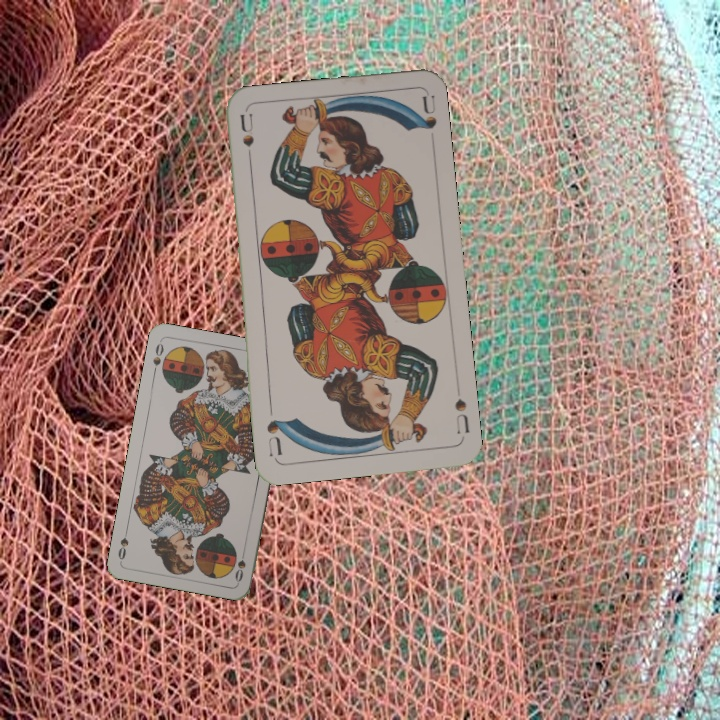SO: (231, 544, 248, 584), (149, 337, 166, 377)
SU: (236, 111, 257, 170), (451, 395, 472, 440)
